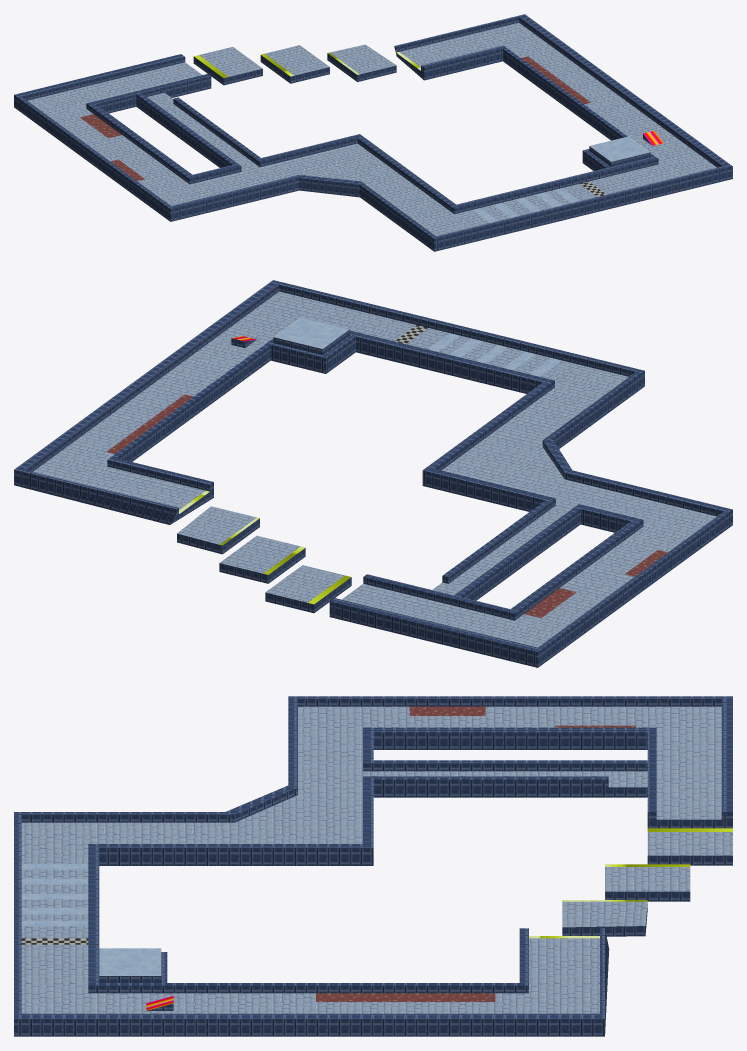
3 renders of one model, top to bottom at view 1: azimuth 30°, elevation 25°; view 2: azimuth 150°, elevation 25°; view 3: azimuth 270°, elevation 25°, orthographic. The views are drawn at different scales.
Parts seen in each view (by area): view 1: course-SKP--Wall.005, course-SKP--Road1.004, course-SKP--Road2.003, course-SKP--Offroad.004, course-SKP--Jump.001; view 2: course-SKP--Wall.005, course-SKP--Road1.004, course-SKP--Road2.003, course-SKP--Offroad.004, course-SKP--Jump.001; view 3: course-SKP--Wall.005, course-SKP--Road1.004, course-SKP--Road2.003, course-SKP--Offroad.004, course-SKP--Jump.001.
Boxes of the visible parts, x1,y1,x2,y2 form: course-SKP--Wall.005: (14, 14, 732, 251); course-SKP--Road1.004: (28, 22, 716, 236); course-SKP--Road2.003: (473, 136, 650, 222); course-SKP--Offroad.004: (80, 56, 590, 180); course-SKP--Jump.001: (194, 52, 420, 77); course-SKP--Wall.005: (14, 280, 732, 667); course-SKP--Road1.004: (32, 291, 716, 647); course-SKP--Road2.003: (273, 317, 561, 376); course-SKP--Offroad.004: (106, 394, 667, 617); course-SKP--Jump.001: (179, 491, 350, 604); course-SKP--Wall.005: (14, 696, 732, 1036); course-SKP--Road1.004: (21, 706, 732, 1013); course-SKP--Road2.003: (21, 864, 161, 975); course-SKP--Offroad.004: (316, 706, 635, 1001); course-SKP--Jump.001: (529, 828, 732, 938).
Size of what is drawn, in the model's own units: 34673 by 1238 by 32640.
7 materials, 7 textured.
